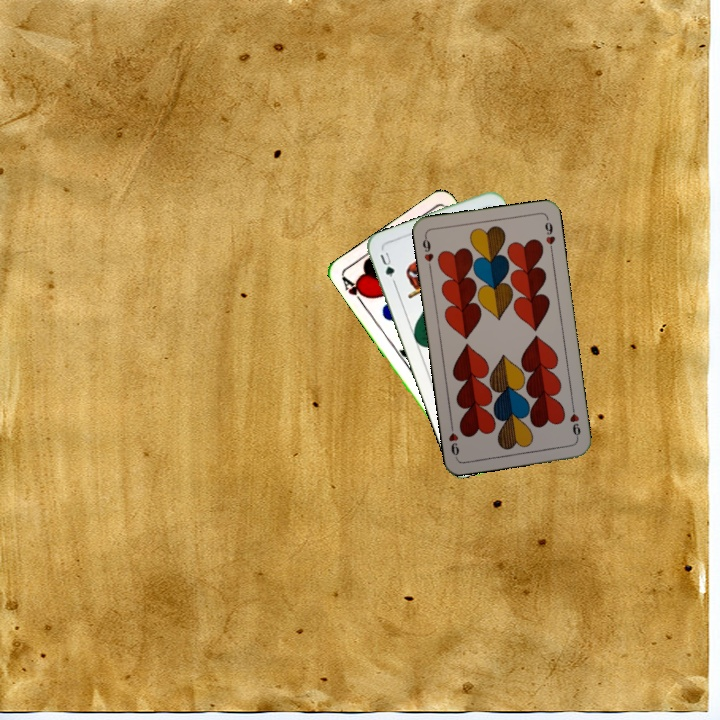GU: (376, 246, 397, 280)
H9: (418, 232, 436, 272), (566, 402, 583, 442)
HA: (338, 273, 370, 308)
